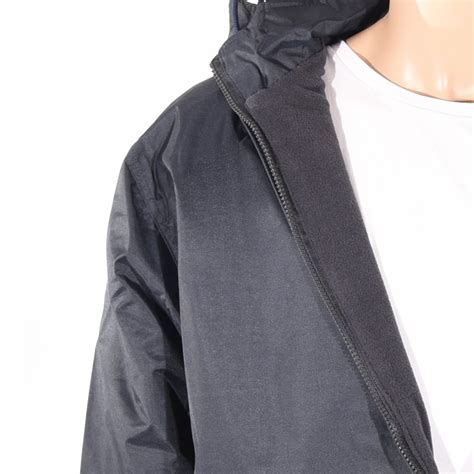nylon: (85, 2, 418, 474)
